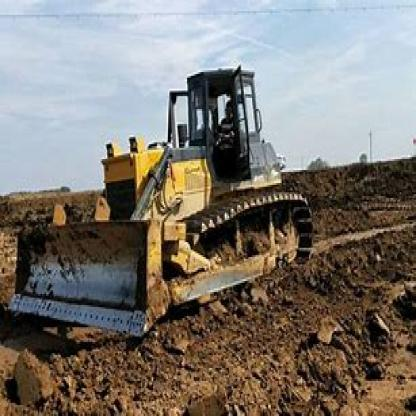bull_dozer/loader/grader: (4, 48, 331, 338)
